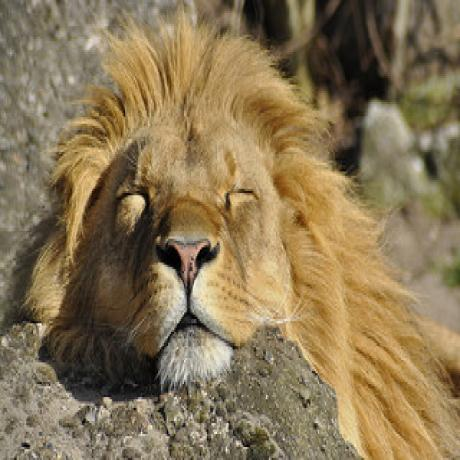Lion: (10, 0, 460, 460)
